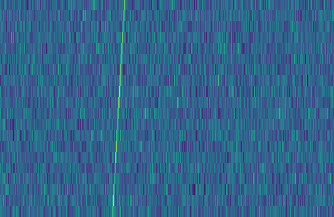signal: (106, 0, 127, 217)
